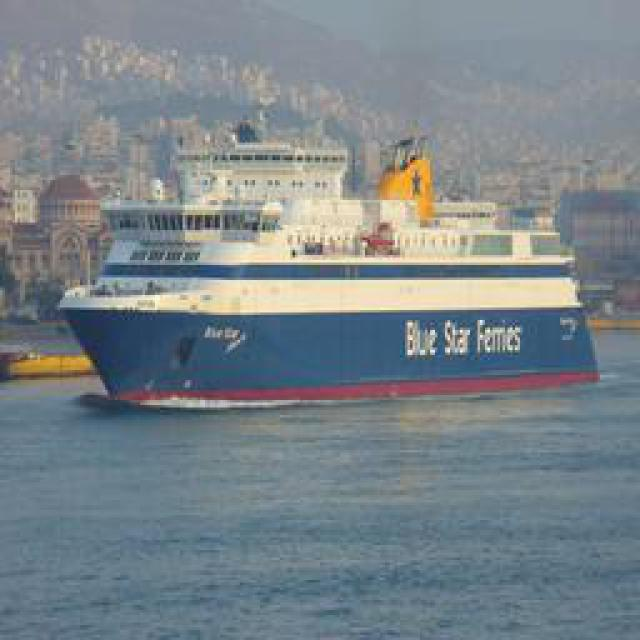Ship: (69, 161, 609, 411)
